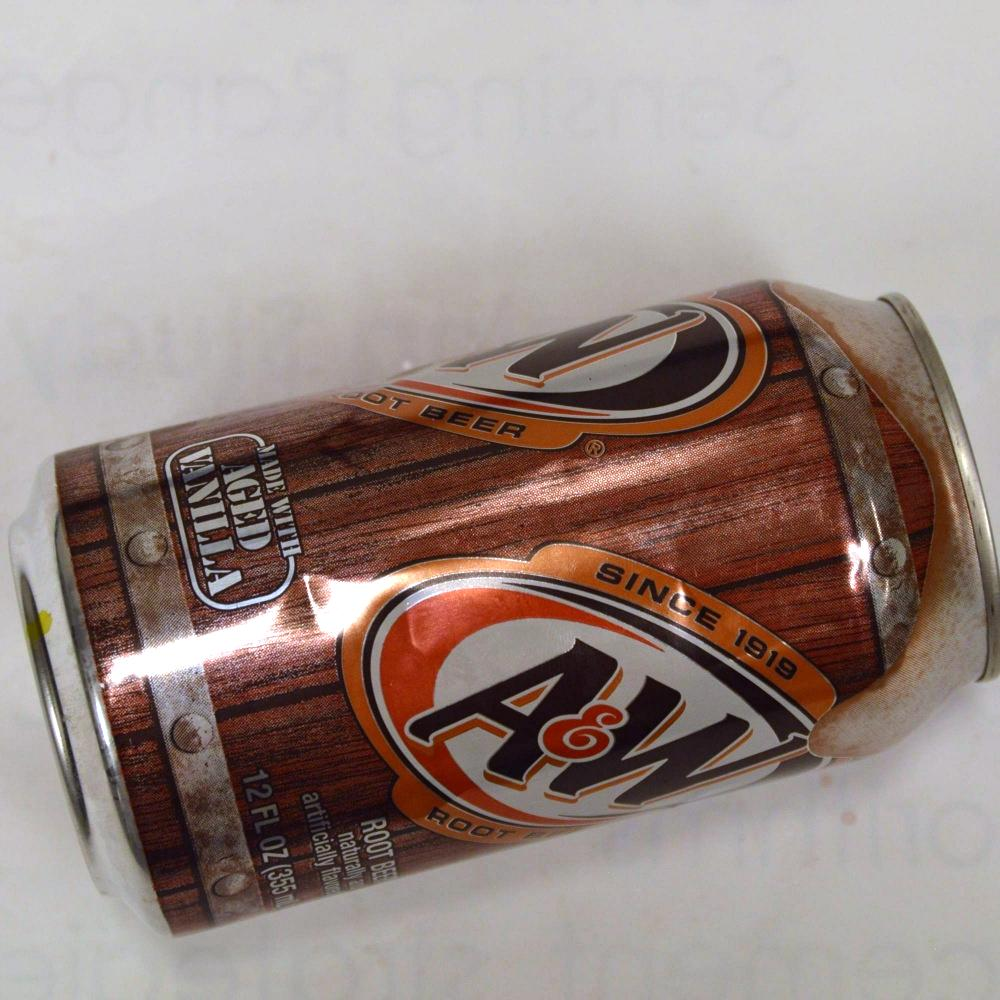Metal: (28, 278, 938, 857)
